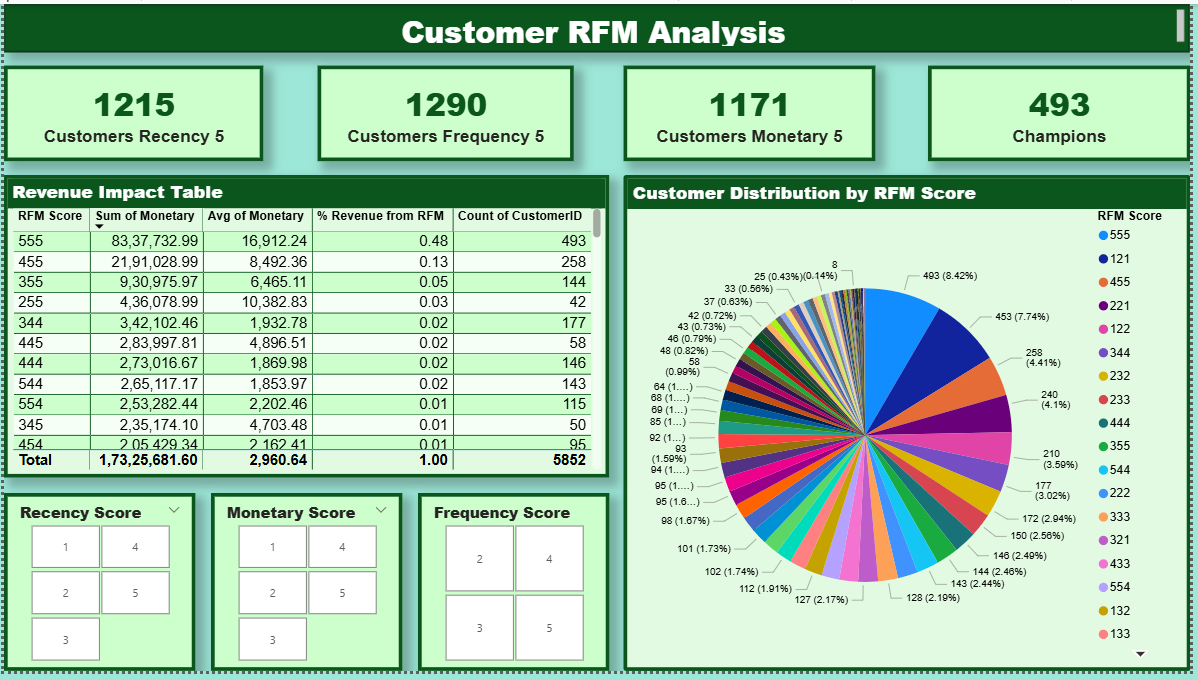

What the dashboard file says about the page in this screenshot:
{"tool":"powerbi","page":{"name":"Customer  RFM Segmentation","canvas":[1280,720],"ordinal":3},"visuals":[{"type":"textbox","box":[0,0,1280,51.7],"z":0},{"type":"card","fields":{"Values":["RFM Table.Customers Recency 5"]},"box":[0,66.7,280,103.3],"z":1000},{"type":"card","fields":{"Values":["RFM Table.Customers Frequency 5"]},"box":[338.3,66.7,276.7,103.3],"z":2000},{"type":"card","fields":{"Values":["RFM Table.Customers Monetary 5"]},"box":[668.3,66.7,271.7,103.3],"z":3000},{"type":"card","fields":{"Values":["RFM Table.Champions"]},"box":[996.7,66.7,283.3,103.3],"z":4000},{"type":"pieChart","title":"Customer Distribution by RFM Score","fields":{"Category":["RFM Table.RFM Score"],"Y":["CountNonNull(RFM Table.CustomerID)"]},"box":[668.3,185,611.7,535],"z":5000},{"type":"tableEx","title":"Revenue Impact Table","fields":{"Values":["RFM Table.RFM Score","Sum(RFM Table.Monetary)","Avg(RFM Table.Monetary)","RFM Table.% Revenue from RFM","CountNonNull(RFM Table.CustomerID)"]},"box":[0,185,653.3,326.7],"z":6000},{"type":"slicer","fields":{"Values":["RFM Table.Recency Score"]},"box":[0,528.3,206.7,191.7],"z":7000},{"type":"slicer","fields":{"Values":["RFM Table.Frequency Score"]},"box":[446.7,528.3,206.7,191.7],"z":8000},{"type":"slicer","fields":{"Values":["RFM Table.Monetary Score"]},"box":[223.3,528.3,206.7,191.7],"z":9000}]}

Visuals, with their boxes in screenshot pixels (x1, y1, x2, y2), scaled from the page's 1280x720 canvas onto the 1198x680 screenshot:
textbox: locate(0, 0, 1197, 49)
card - RFM Table.Customers Recency 5: locate(0, 63, 262, 161)
card - RFM Table.Customers Frequency 5: locate(317, 63, 576, 161)
card - RFM Table.Customers Monetary 5: locate(625, 63, 880, 161)
card - RFM Table.Champions: locate(933, 63, 1197, 161)
"Customer Distribution by RFM Score" pieChart: locate(625, 175, 1197, 679)
"Revenue Impact Table" tableEx: locate(0, 175, 611, 483)
slicer - RFM Table.Recency Score: locate(0, 499, 193, 679)
slicer - RFM Table.Frequency Score: locate(418, 499, 612, 679)
slicer - RFM Table.Monetary Score: locate(209, 499, 402, 679)
